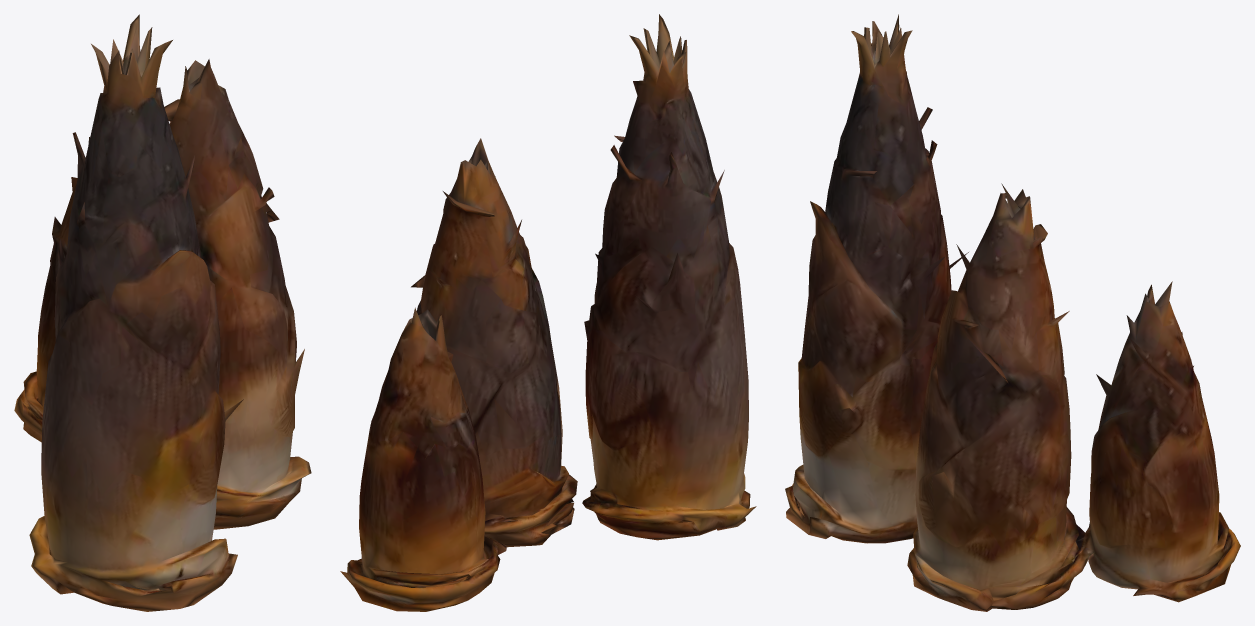
The model's file is zhusun.glb.
The picture shows the model from 3 angles, left to right: view 1: azimuth 30°, elevation 25°; view 2: azimuth 150°, elevation 25°; view 3: azimuth 270°, elevation 25°; orthographic projection. The views are drawn at different scales.
Visible parts, largest first — view 1: tripo_node_e6cac15b-d0f7-4b4c-b15e-0ecab47e6bb4; view 2: tripo_node_e6cac15b-d0f7-4b4c-b15e-0ecab47e6bb4; view 3: tripo_node_e6cac15b-d0f7-4b4c-b15e-0ecab47e6bb4.
Part boxes in pixels (<box>): tripo_node_e6cac15b-d0f7-4b4c-b15e-0ecab47e6bb4: <box>14,14,311,611</box>; tripo_node_e6cac15b-d0f7-4b4c-b15e-0ecab47e6bb4: <box>340,14,756,611</box>; tripo_node_e6cac15b-d0f7-4b4c-b15e-0ecab47e6bb4: <box>785,14,1240,611</box>.
Bounding box in the file's own units: 0.632 × 1 × 0.83.
1 material, 1 textured.
